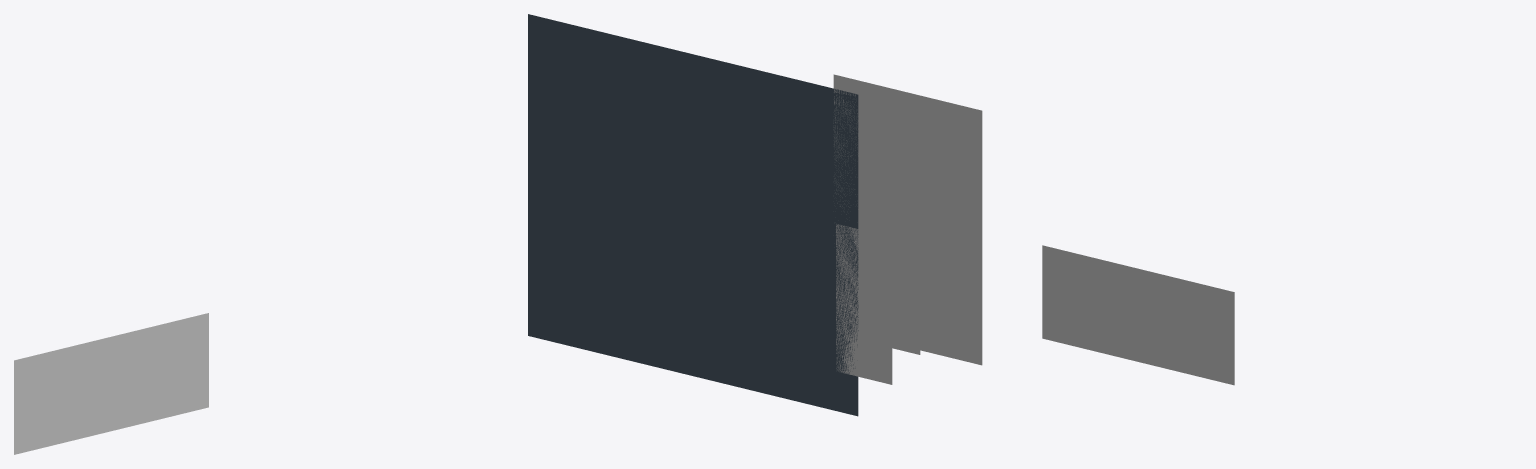
Rendered from Skeleton Prefab Mesh _Eb_Camelliad_04_.glb.
3 views of the same model, side by side, from view 1: azimuth 30°, elevation 25°; view 2: azimuth 150°, elevation 25°; view 3: azimuth 330°, elevation 25° (orthographic).
Visible parts, largest first — view 1: Skeleton Prefab Mesh "Eb_Camelliad_04"; view 2: Skeleton Prefab Mesh "Eb_Camelliad_04"; view 3: Skeleton Prefab Mesh "Eb_Camelliad_04".
Boxes of the visible parts, x1,y1,x2,y2 form: Skeleton Prefab Mesh "Eb_Camelliad_04": (14, 313, 208, 454); Skeleton Prefab Mesh "Eb_Camelliad_04": (528, 14, 982, 416); Skeleton Prefab Mesh "Eb_Camelliad_04": (1042, 245, 1234, 385).
Bounding box in the file's own units: 21.89 × 14.49 × 0.
